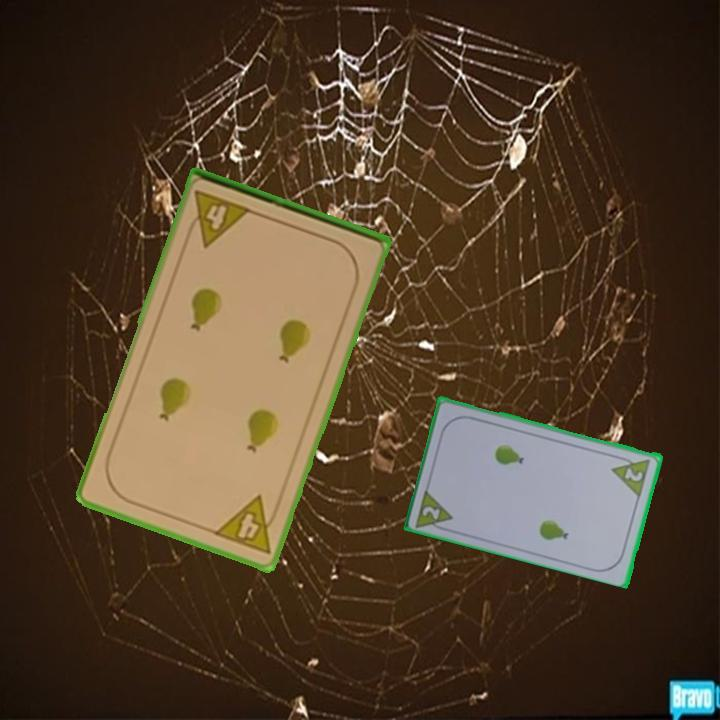2p: (412, 485, 457, 535), (621, 463, 646, 485)
4p: (210, 492, 284, 557), (182, 186, 255, 250)
